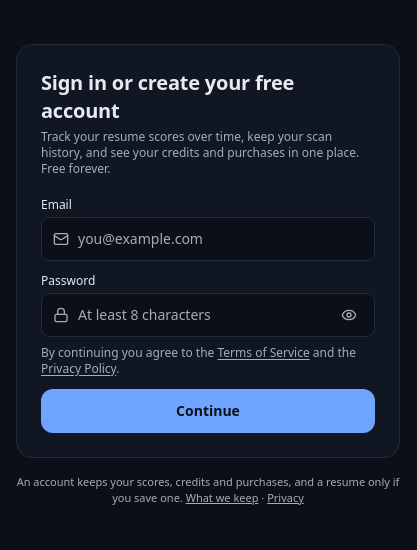
Test: the password path: sign in first, a new account only when asked › any other refusal clears a marker left from an earlier request, and names the support address
In the field labelled "Email": [208, 238] box [41,216,375,260], type "member@example.com"
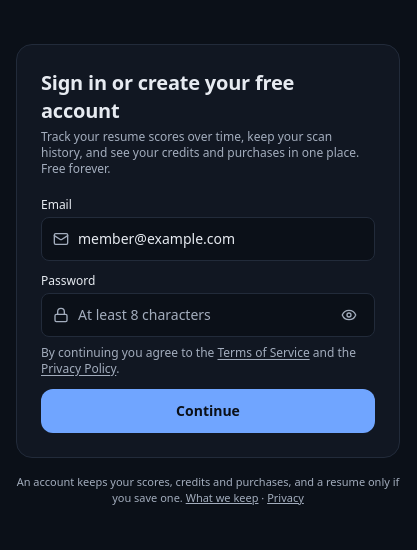
In the password field labelled "Password": [208, 314] box [41,292,375,336], type "whatever-it-is"
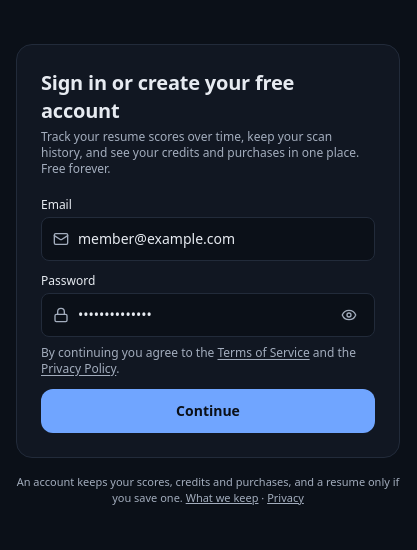
Click the button "Continue": [208, 410] box [41,388,375,432]
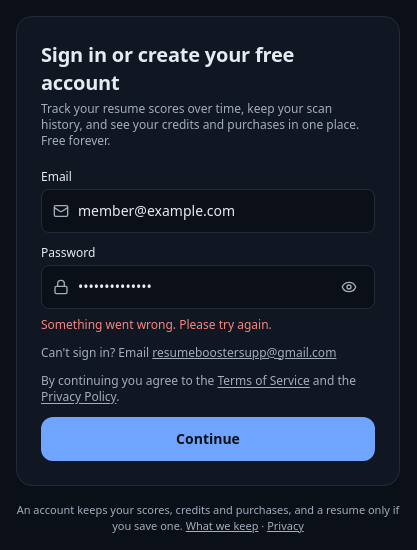
Expected: the message reads "Something went wrong. Please try again.", [41,316,272,332]
Expected: the text "Can't sign in? Email resumeboostersupp@gmail.com" is shown, [41,344,375,360]
